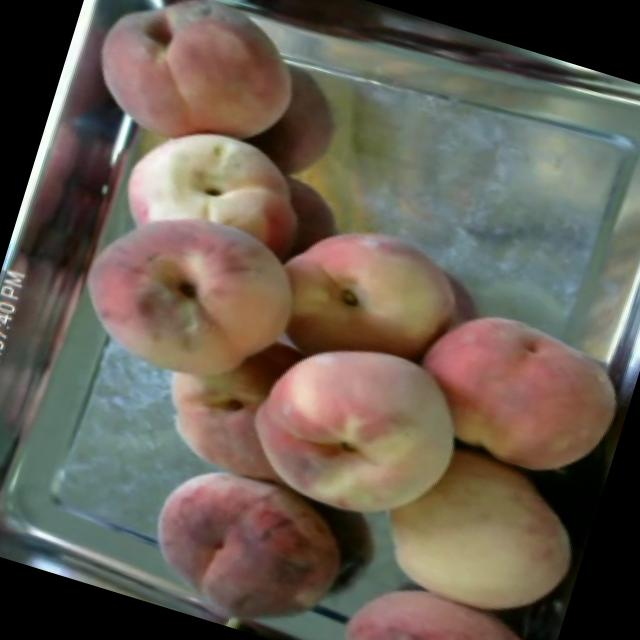Fruit: (222, 298, 506, 548), (57, 170, 326, 410), (387, 279, 640, 492), (348, 428, 602, 634), (124, 448, 383, 640), (250, 196, 483, 398), (65, 0, 327, 178), (316, 505, 577, 640)
